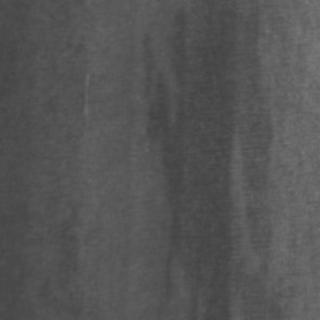inclusion: (138, 2, 196, 298)
